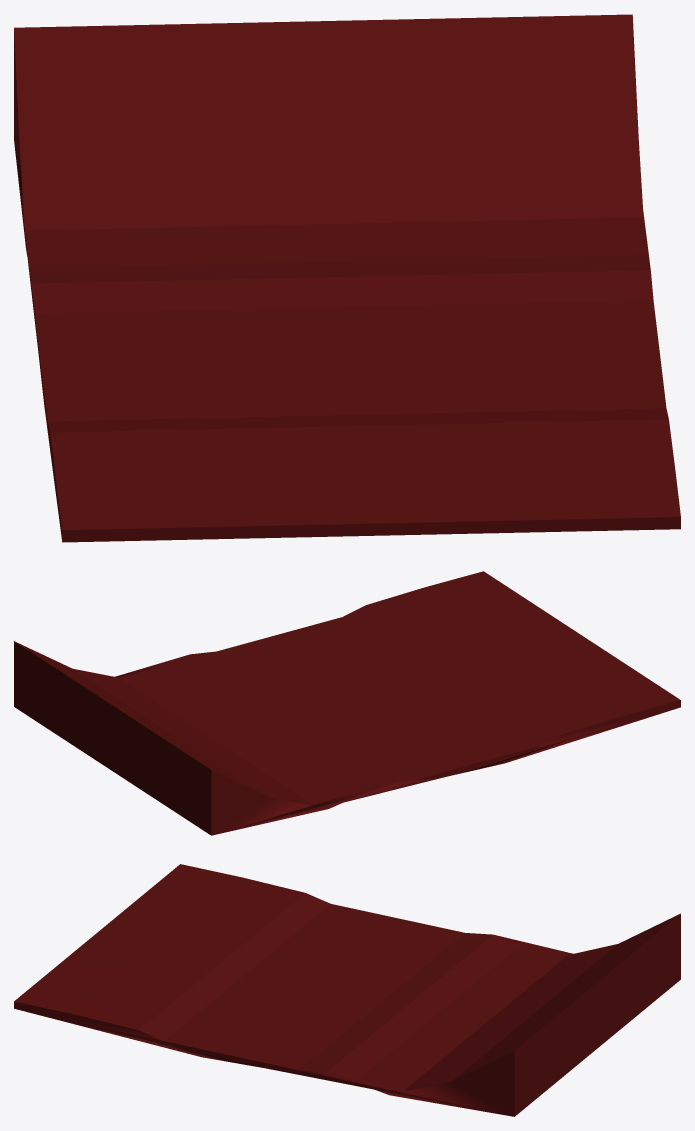
File: Ramp_Left__2_.fbx
The picture shows the model from 3 angles, top to bottom: view 1: azimuth 30°, elevation 25°; view 2: azimuth 150°, elevation 25°; view 3: azimuth 270°, elevation 25°; orthographic projection. The views are drawn at different scales.
Visible parts, largest first — view 1: Ramp_Left__2_; view 2: Ramp_Left__2_; view 3: Ramp_Left__2_.
Part boxes in pixels (box(x1,y1,x2,y2)): Ramp_Left__2_: box(14, 14, 680, 542); Ramp_Left__2_: box(14, 571, 680, 835); Ramp_Left__2_: box(14, 864, 680, 1116).
Size of the model in its own units: 241 by 33.91 by 277.
